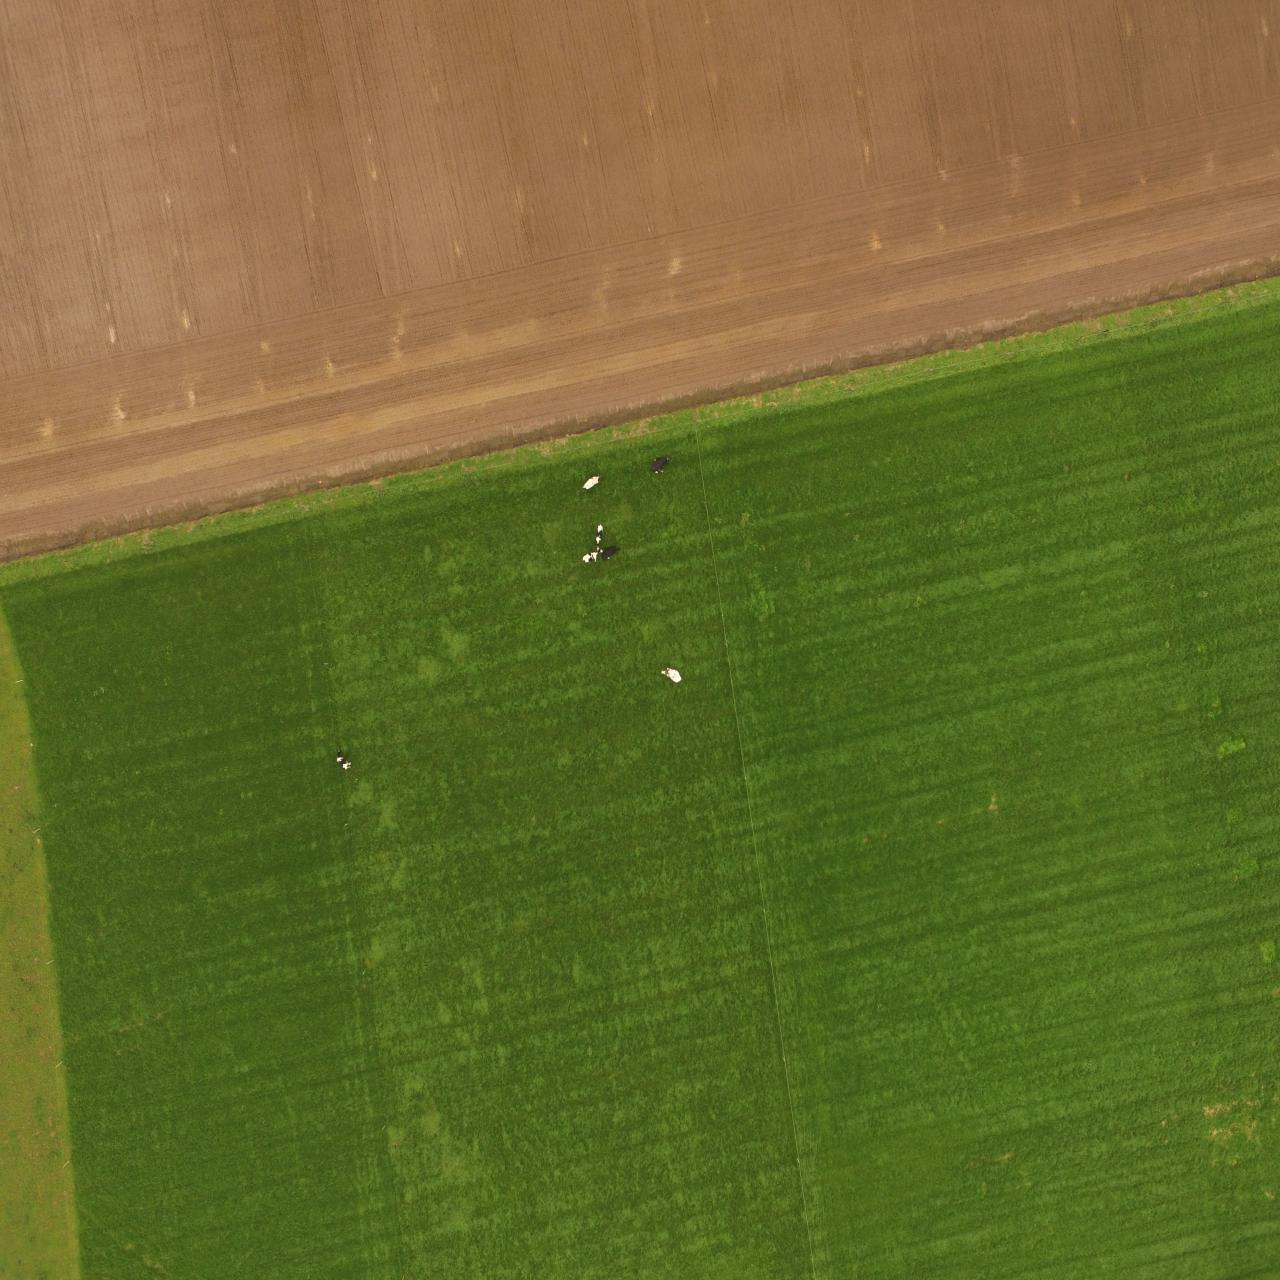cow: (579, 467, 600, 493), (660, 666, 688, 683), (647, 452, 669, 474), (335, 748, 352, 771), (601, 543, 620, 561), (580, 552, 602, 564), (594, 523, 605, 546)
